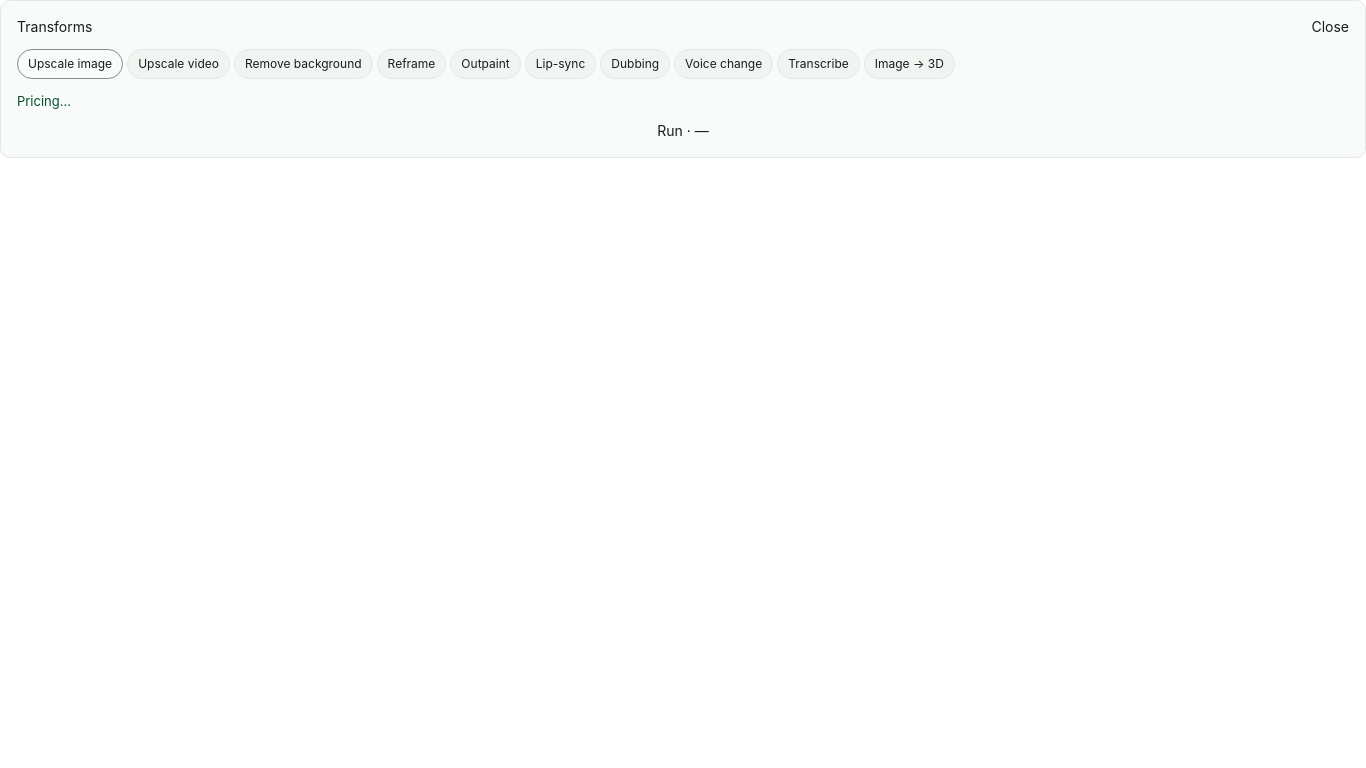
Test: TransformsPanel (F-CRE-11) › Image → 3D without a fal key says so and links to Connect fal (F-CRE-15)
Step 1. Click the tab "Image → 3D" → (909, 64), box [864, 49, 955, 79]
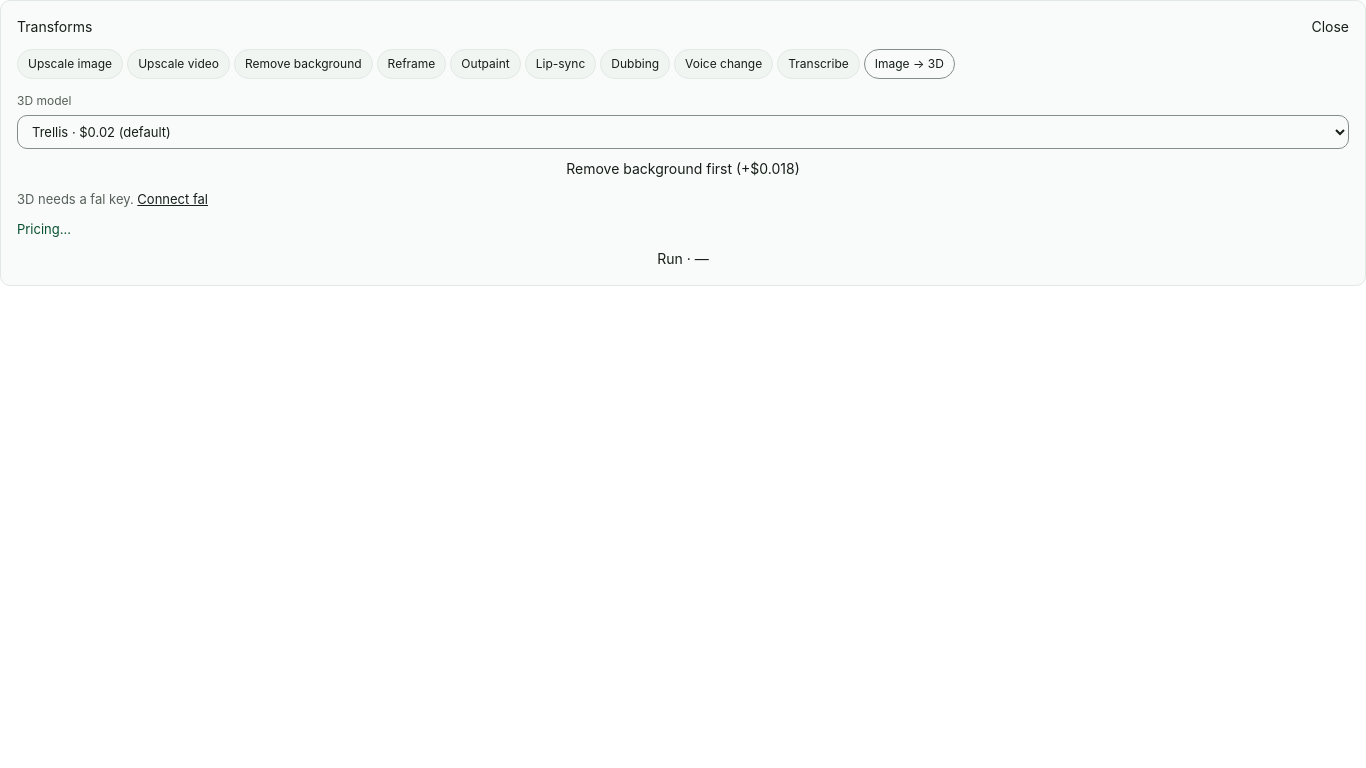
Expected: the message with class "transforms-needs-key" shows "3D needs a fal key.", [17, 191, 134, 207]
Expected: the link "Connect fal" is shown, [137, 191, 208, 207]
Expected: the button with class "transforms-run" is disabled, [17, 249, 1349, 269]
